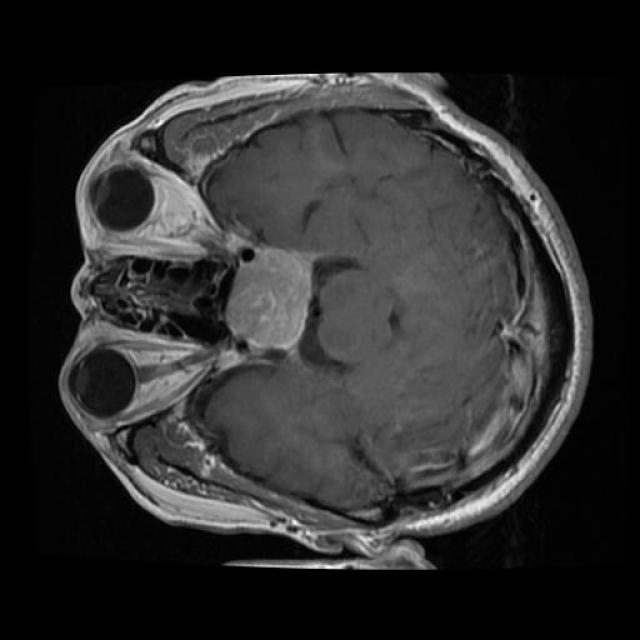Pituitary: (223, 245, 315, 357)
